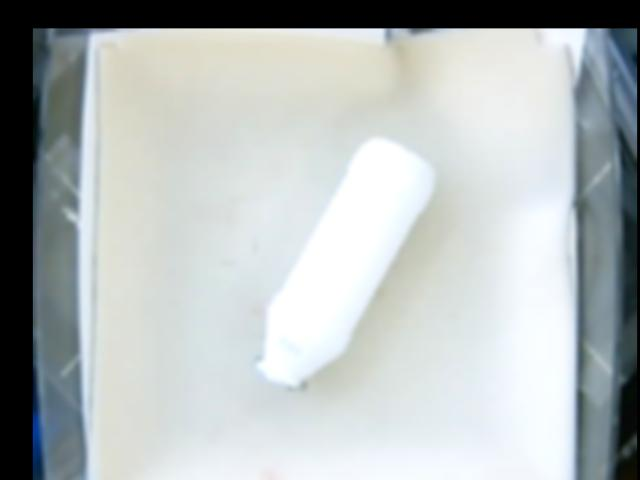Bottle: (258, 136, 434, 390)
